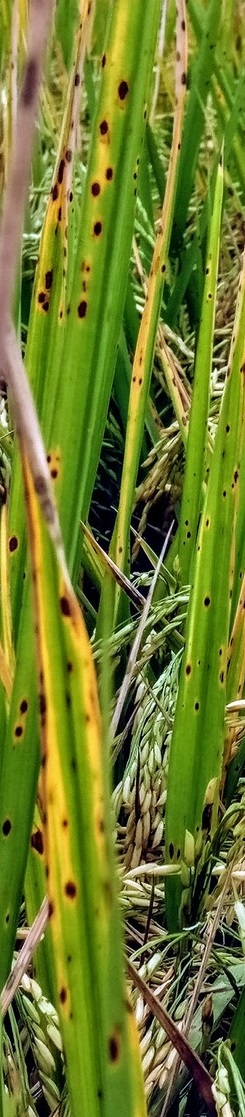Bercak Coklat: (99, 1028, 124, 1068), (56, 872, 83, 906), (5, 720, 39, 744), (5, 527, 26, 561), (198, 589, 222, 618), (74, 297, 93, 333), (87, 213, 109, 243), (114, 74, 133, 107), (45, 445, 62, 480), (99, 159, 121, 185), (189, 693, 208, 722), (1, 811, 18, 842), (84, 176, 106, 199), (226, 463, 242, 493), (180, 657, 197, 684), (55, 982, 73, 1007), (97, 116, 112, 143), (14, 697, 33, 718), (43, 264, 57, 291), (212, 668, 228, 689), (47, 181, 62, 203), (159, 261, 171, 282), (37, 289, 47, 306), (41, 303, 51, 319)
